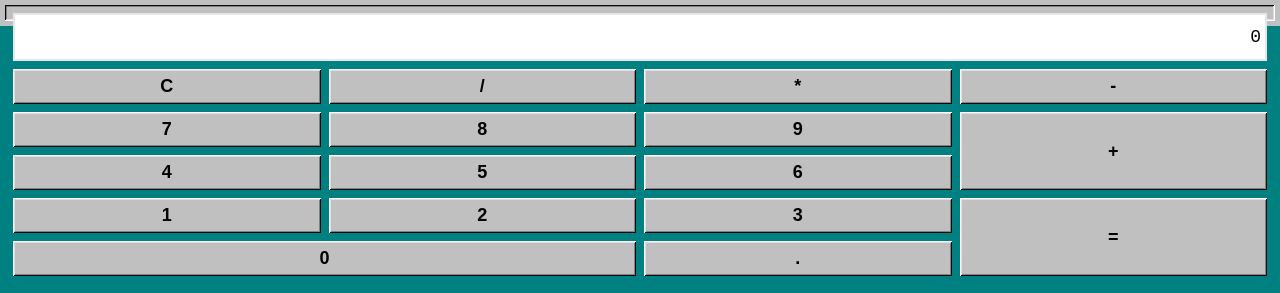
Test: Calculator › performs multiplication
Click the button "3": (798, 216) [644,198,952,233]
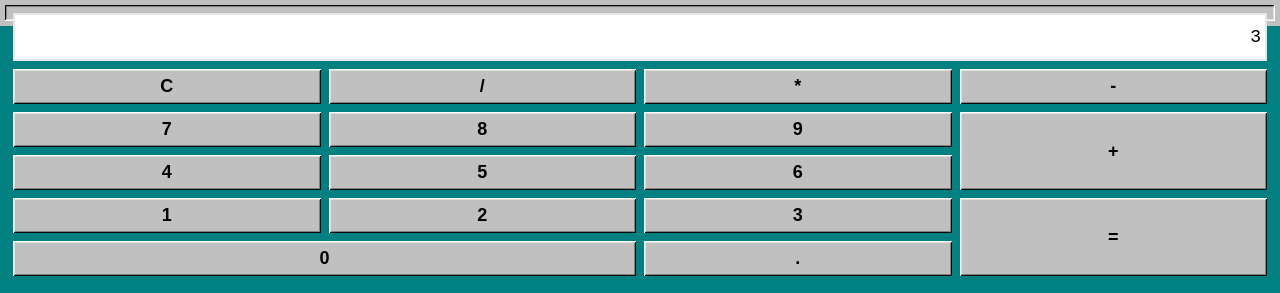
Click the button "*": (798, 86) [644,69,952,104]
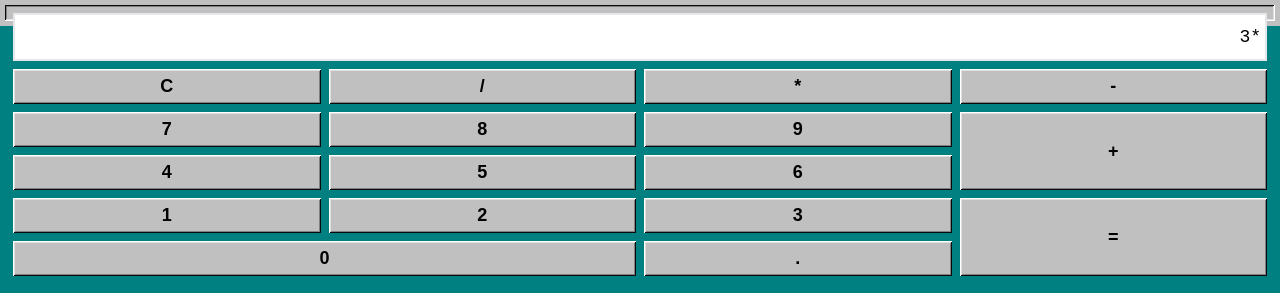
Click the button "4": (167, 172) [13,155,320,190]
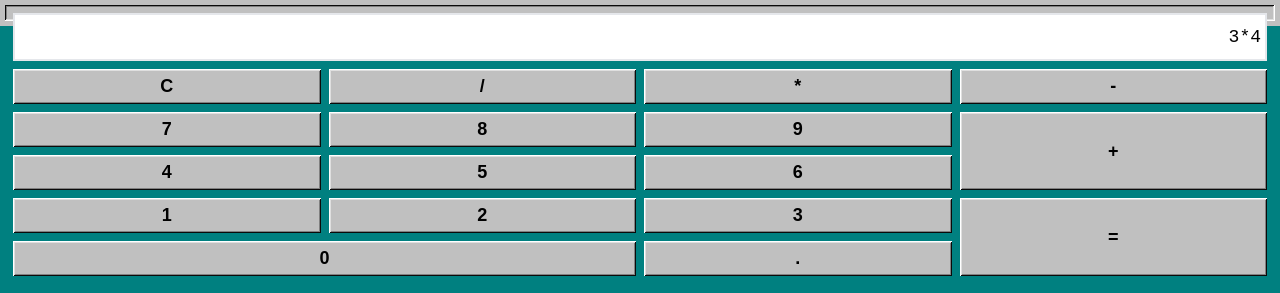
Click the button "=": (1113, 237) [960,198,1267,276]
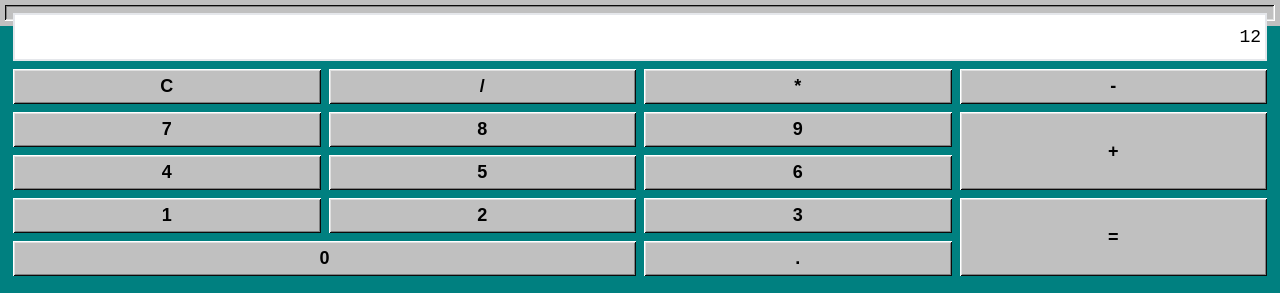
Result: the text "12" is shown at [13,13,1267,61]
